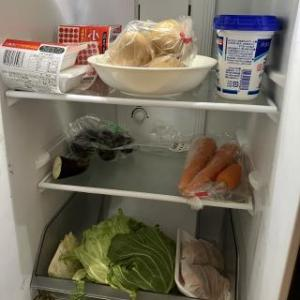cabbage: (74, 208, 176, 298), (46, 231, 78, 282)
carrot: (182, 142, 241, 198), (177, 135, 217, 191), (216, 163, 245, 194)
eggplant: (50, 155, 90, 181), (72, 126, 97, 158), (95, 128, 117, 162), (110, 130, 136, 154)
